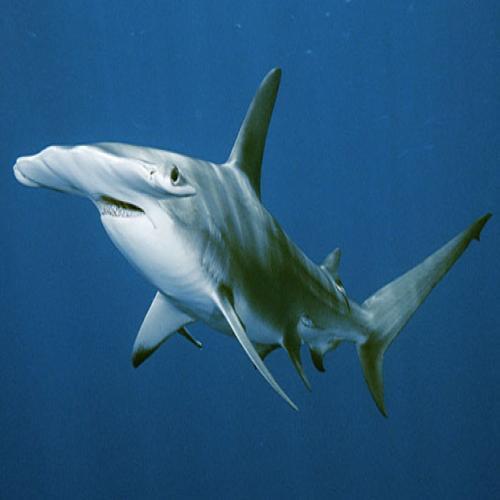shark-endangered: (12, 66, 492, 418)
